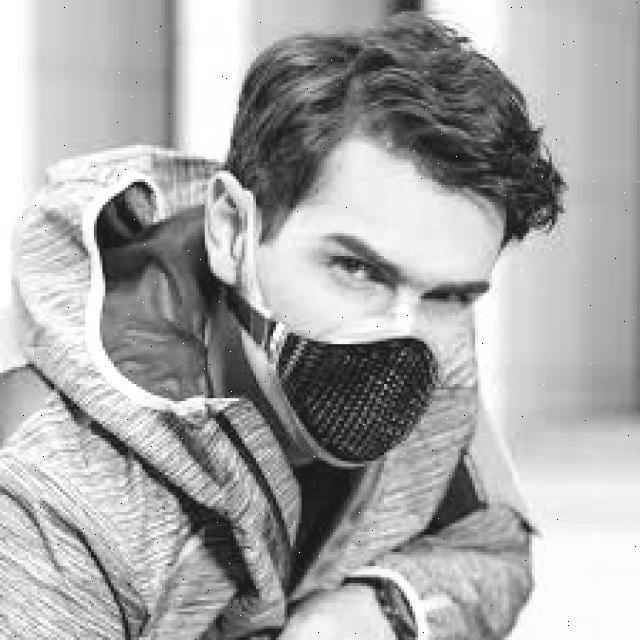fake: (227, 231, 487, 507)
real: (242, 136, 499, 475)
